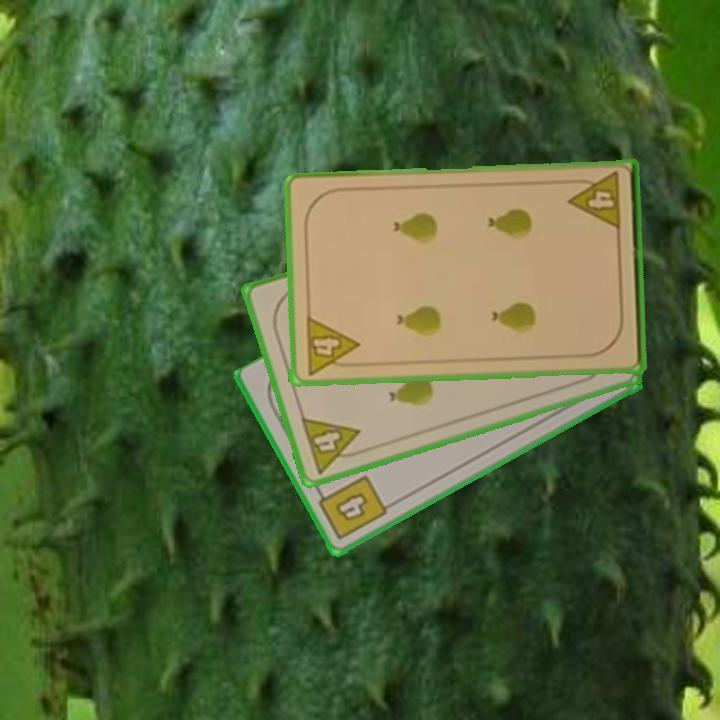4b: (312, 471, 390, 543)
4p: (297, 413, 369, 477), (301, 312, 361, 377), (565, 169, 624, 234)
